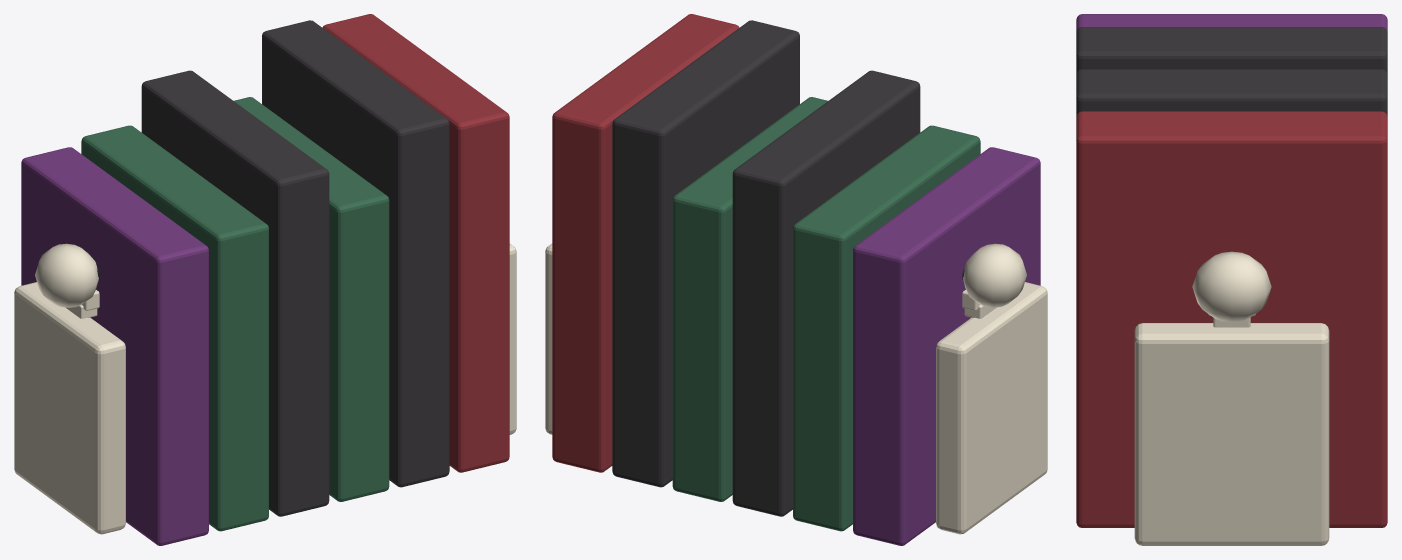
File: book_stack_bone_bookends.glb
3 renders of one model, left to right at view 1: azimuth 30°, elevation 25°; view 2: azimuth 150°, elevation 25°; view 3: azimuth 270°, elevation 25°, orthographic. The views are drawn at different scales.
Visible parts, largest first — view 1: GD_book_stack_bone_bookends__m5, GD_book_stack_bone_bookends__m4, GD_book_stack_bone_bookends__m3, GD_book_stack_bone_bookends__m6, GD_book_stack_bone_bookends__m0; view 2: GD_book_stack_bone_bookends__m5, GD_book_stack_bone_bookends__m4, GD_book_stack_bone_bookends__m3, GD_book_stack_bone_bookends__m6, GD_book_stack_bone_bookends__m0; view 3: GD_book_stack_bone_bookends__m6, GD_book_stack_bone_bookends__m0, GD_book_stack_bone_bookends__m5, GD_book_stack_bone_bookends__m3.
Part boxes in pixels (x1,y1,x2,y2): GD_book_stack_bone_bookends__m5: [141, 20, 449, 516]; GD_book_stack_bone_bookends__m4: [81, 97, 389, 531]; GD_book_stack_bone_bookends__m3: [21, 147, 208, 545]; GD_book_stack_bone_bookends__m6: [322, 14, 509, 472]; GD_book_stack_bone_bookends__m0: [14, 243, 516, 534]; GD_book_stack_bone_bookends__m5: [612, 20, 920, 516]; GD_book_stack_bone_bookends__m4: [672, 97, 980, 531]; GD_book_stack_bone_bookends__m3: [853, 147, 1040, 545]; GD_book_stack_bone_bookends__m6: [552, 14, 739, 472]; GD_book_stack_bone_bookends__m0: [545, 243, 1047, 534]; GD_book_stack_bone_bookends__m6: [1076, 111, 1387, 527]; GD_book_stack_bone_bookends__m0: [1134, 251, 1329, 545]; GD_book_stack_bone_bookends__m5: [1076, 27, 1387, 116]; GD_book_stack_bone_bookends__m3: [1076, 14, 1387, 31].
Bounding box in the file's own units: 0.2999 × 0.2275 × 0.16.
